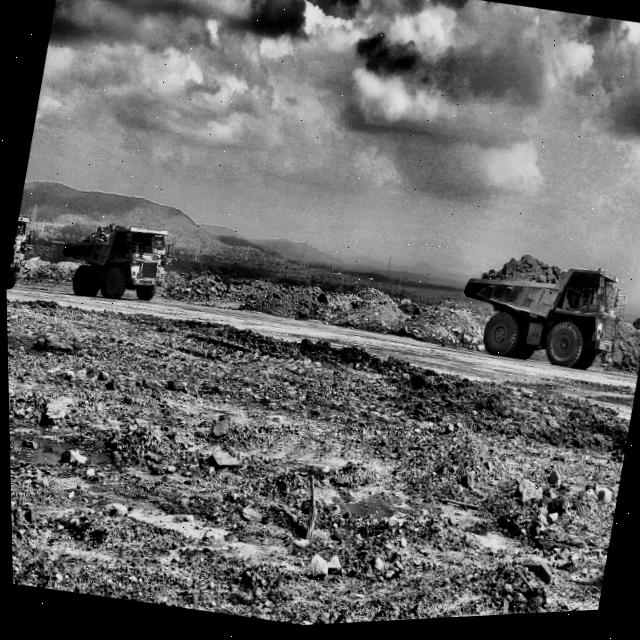dump_truck: (463, 260, 617, 376), (72, 226, 168, 302)
